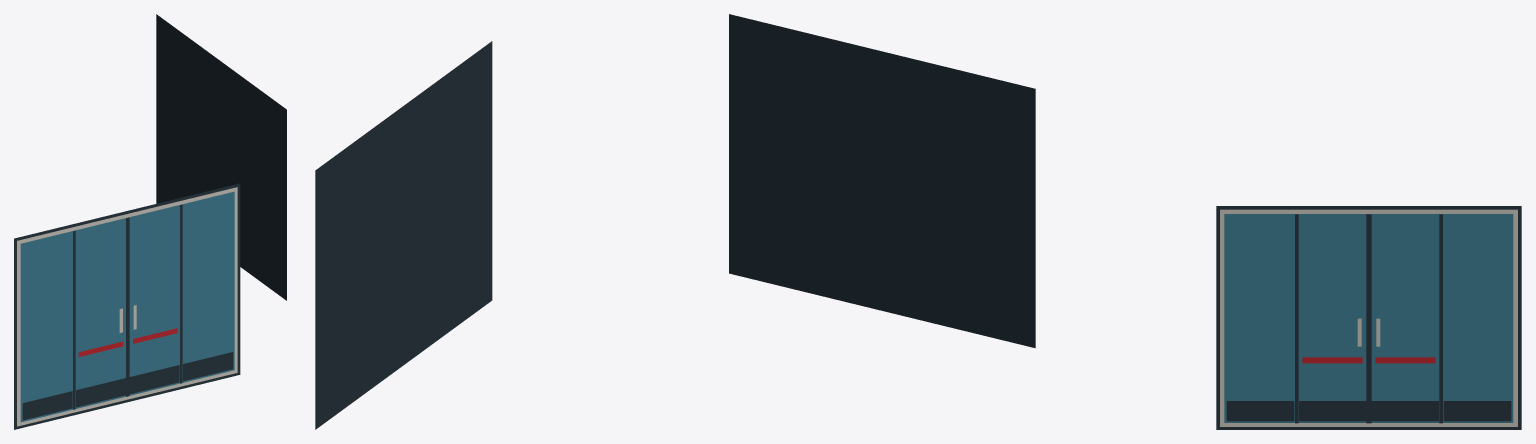
The model's file is pokemon_center_doors.glb.
The picture shows the model from 3 angles, left to right: view 1: azimuth 30°, elevation 25°; view 2: azimuth 150°, elevation 25°; view 3: azimuth 270°, elevation 25°; orthographic projection. The views are drawn at different scales.
Parts seen in each view (by area): view 1: PokemonCenterDoors; view 2: PokemonCenterDoors; view 3: PokemonCenterDoors.
Boxes of the visible parts, x1=… form: PokemonCenterDoors: x1=14, y1=14, x2=286, y2=429; PokemonCenterDoors: x1=315, y1=14, x2=1035, y2=429; PokemonCenterDoors: x1=1216, y1=206, x2=1521, y2=429.
Size of the model in its own units: 5.02 by 2.71 by 5.02.
1 material, 1 textured.
